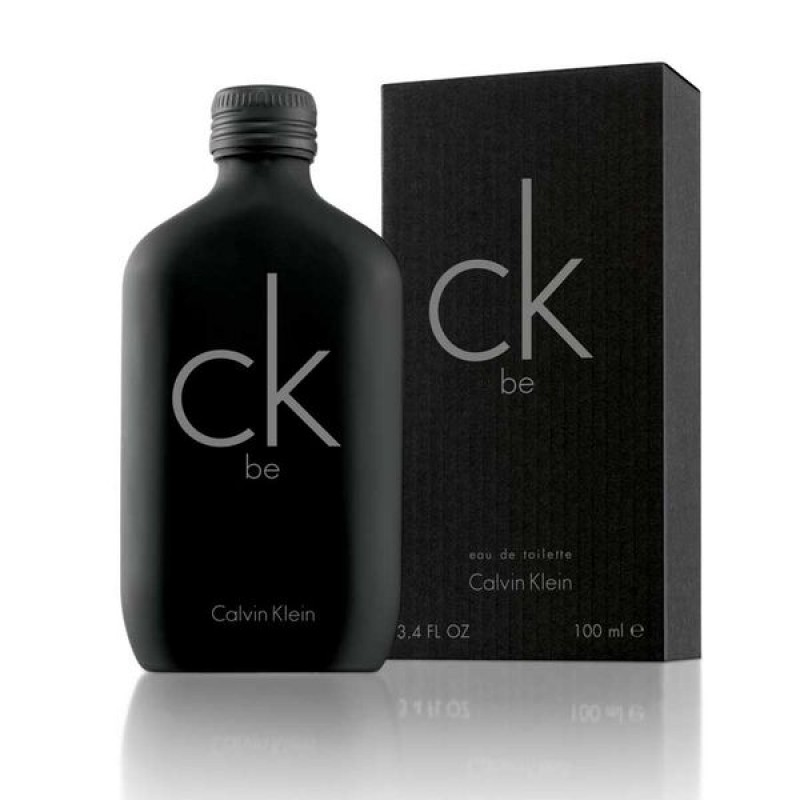Calvin Klein: (424, 175, 603, 367), (170, 267, 344, 455), (211, 595, 320, 631), (465, 569, 583, 597)
